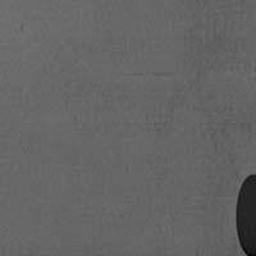Punching: (237, 174, 256, 256)
